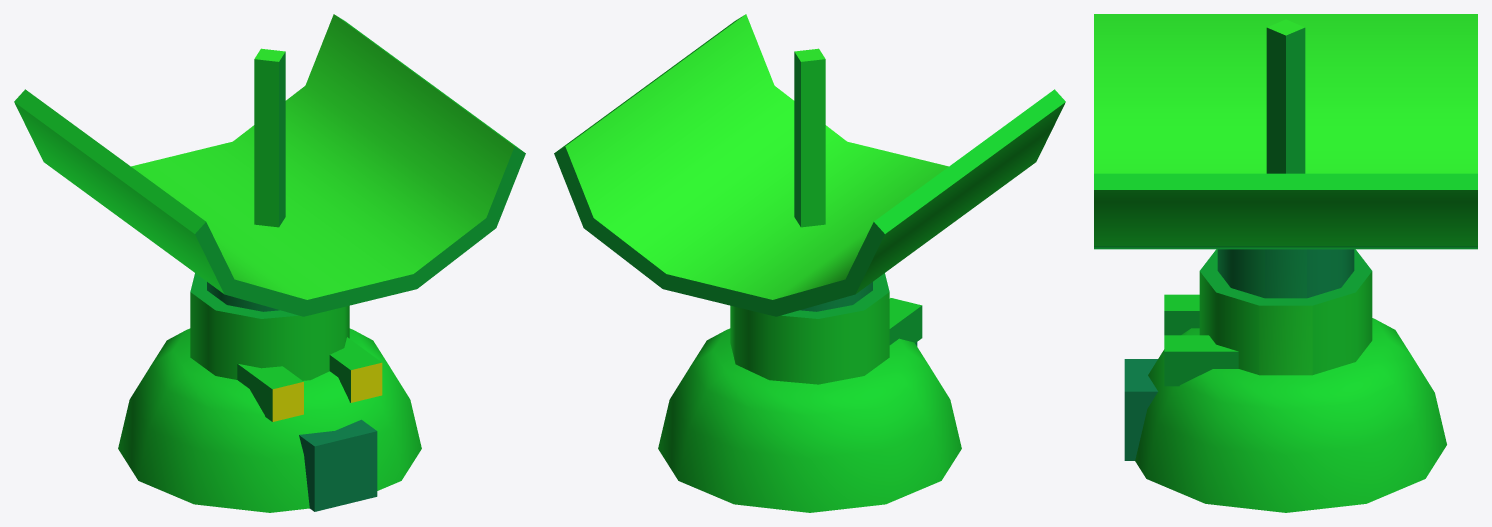
File: Lab.GreenEarth.glb
The picture shows the model from 3 angles, left to right: view 1: azimuth 30°, elevation 25°; view 2: azimuth 150°, elevation 25°; view 3: azimuth 270°, elevation 25°; orthographic projection. The views are drawn at different scales.
Visible parts, largest first — view 1: Lab.GreenEarth; view 2: Lab.GreenEarth; view 3: Lab.GreenEarth.
Part boxes in pixels (<box>): Lab.GreenEarth: <box>14,14,525,512</box>; Lab.GreenEarth: <box>554,14,1065,512</box>; Lab.GreenEarth: <box>1094,14,1477,512</box>.
Size of the model in its own units: 2.11 by 2.41 by 2.
2 materials, 1 textured.
